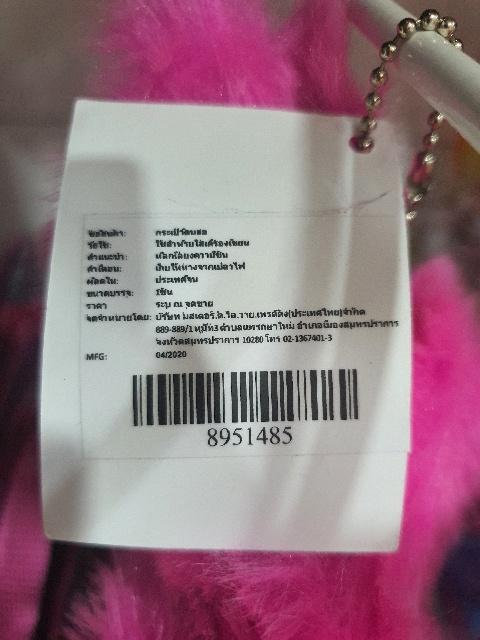Barcode: (121, 362, 373, 447)
